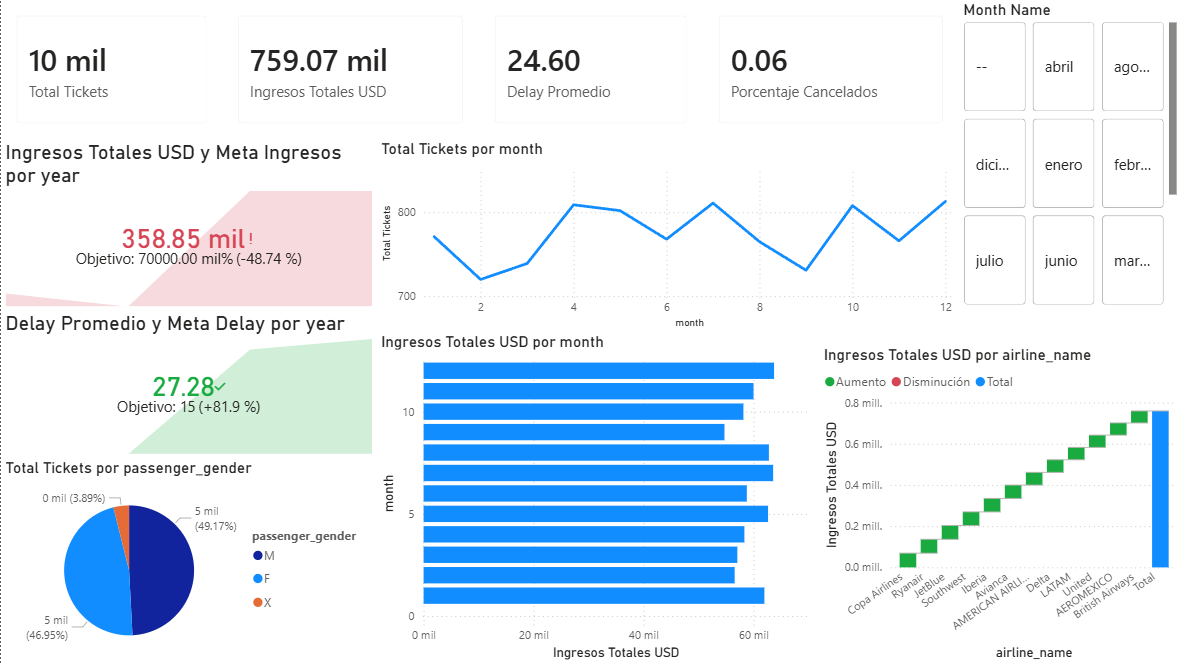

This screenshot's page, from the dashboard's own definition file:
{"tool":"powerbi","page":{"name":"Página 1","canvas":[1280,720],"ordinal":0},"visuals":[{"type":"cardVisual","title":"Hola","fields":{"Data":["FactTicketFlight.Total Tickets"]},"box":[0,0,240,151.4],"z":0},{"type":"cardVisual","fields":{"Data":["FactTicketFlight.Ingreso Total USD"]},"box":[240,0,278.6,151.4],"z":1000},{"type":"cardVisual","fields":{"Data":["FactTicketFlight.Delay Promedio"]},"box":[518.6,0,242.9,151.4],"z":2000},{"type":"cardVisual","fields":{"Data":["FactTicketFlight.Porcentaje Cancelados"]},"box":[761.4,0,277.1,151.4],"z":3000},{"type":"kpi","fields":{"Indicator":["FactTicketFlight.Ingresos Totales USD"],"TrendLine":["DimDateTime.year Jerarquía.year"],"Goal":["FactTicketFlight.Meta Ingresos"]},"box":[0,151.4,407.1,185.7],"z":4000},{"type":"kpi","fields":{"Indicator":["FactTicketFlight.Delay Promedio"],"TrendLine":["DimDateTime.year Jerarquía.year"],"Goal":["FactTicketFlight.Meta Delay"]},"box":[0,337.1,407.1,160],"z":5000},{"type":"lineChart","fields":{"Y":["FactTicketFlight.Total Tickets"],"Category":["DimDateTime.year Jerarquía.month"]},"box":[407.1,151.4,631.4,208.6],"z":6000},{"type":"barChart","fields":{"Category":["DimDateTime.year Jerarquía.month","DimDateTime.year Jerarquía.day"],"Y":["FactTicketFlight.Ingresos Totales USD"]},"box":[407.1,360,490,360],"z":7000},{"type":"pieChart","fields":{"Category":["DimPassenger.passenger_gender"],"Y":["FactTicketFlight.Total Tickets"]},"box":[0,497.1,407.1,222.9],"z":8000},{"type":"waterfallChart","fields":{"Category":["DimAirline.airline_name Jerarquía.airline_name","DimAirline.airline_name Jerarquía.airline_code"],"Y":["FactTicketFlight.Ingresos Totales USD"]},"box":[887.1,374.3,392.9,345.7],"z":9000},{"type":"advancedSlicerVisual","fields":{"Values":["DimDateTime.Month Name"]},"box":[1038.6,0,241.4,337.1],"z":9001}]}

Visuals, with their boxes in screenshot pixels (x1, y1, x2, y2), scaled from the page's 1280x720 canvas onto the 1182x663 screenshot:
"Hola" cardVisual: [0, 0, 222, 139]
cardVisual - FactTicketFlight.Ingreso Total USD: [222, 0, 479, 139]
cardVisual - FactTicketFlight.Delay Promedio: [479, 0, 703, 139]
cardVisual - FactTicketFlight.Porcentaje Cancelados: [703, 0, 959, 139]
kpi - FactTicketFlight.Ingresos Totales USD x DimDateTime.year Jerarquía.year: [0, 139, 376, 310]
kpi - FactTicketFlight.Delay Promedio x DimDateTime.year Jerarquía.year: [0, 310, 376, 458]
lineChart - FactTicketFlight.Total Tickets x DimDateTime.year Jerarquía.month: [376, 139, 959, 332]
barChart - DimDateTime.year Jerarquía.month x DimDateTime.year Jerarquía.day: [376, 332, 828, 662]
pieChart - DimPassenger.passenger_gender x FactTicketFlight.Total Tickets: [0, 458, 376, 662]
waterfallChart - DimAirline.airline_name Jerarquía.airline_name x DimAirline.airline_name Jerarquía.airline_code: [819, 345, 1181, 662]
advancedSlicerVisual - DimDateTime.Month Name: [959, 0, 1181, 310]
